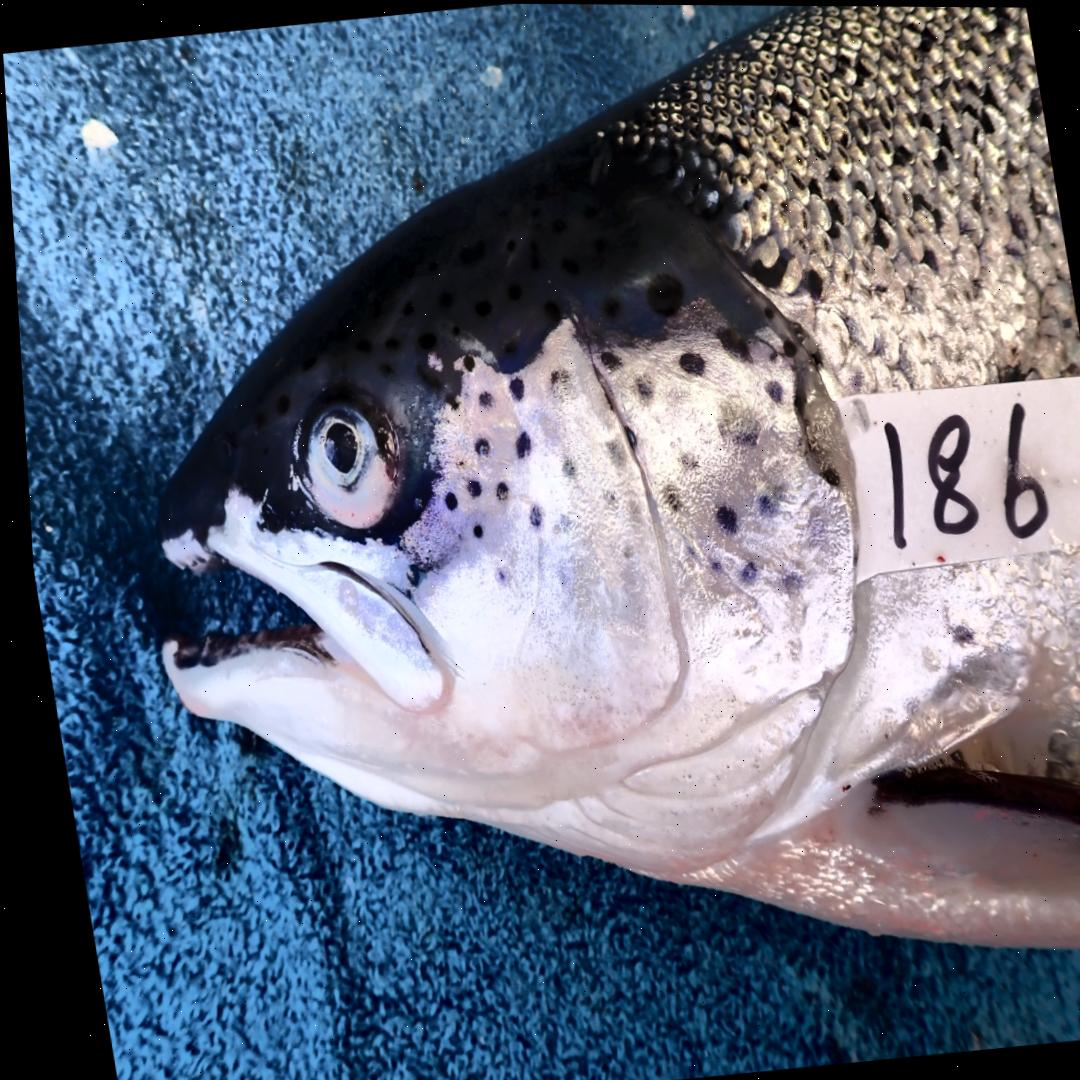spot: (713, 325, 746, 359), (729, 419, 755, 444), (675, 352, 701, 375), (709, 505, 731, 532), (544, 366, 566, 391), (759, 377, 780, 403), (752, 492, 775, 515), (600, 439, 618, 468), (802, 516, 819, 542), (596, 350, 617, 371), (510, 431, 526, 458), (658, 488, 676, 511), (632, 376, 647, 403), (504, 375, 520, 399), (815, 466, 834, 485), (733, 560, 749, 582), (672, 450, 691, 468), (620, 423, 632, 450), (778, 572, 794, 591), (469, 438, 485, 456), (523, 504, 536, 525), (473, 390, 488, 408), (556, 459, 571, 477), (489, 480, 503, 499), (438, 492, 452, 510), (462, 480, 476, 498), (597, 492, 610, 510), (779, 338, 792, 356), (487, 568, 500, 585), (460, 355, 472, 371), (768, 481, 780, 497), (676, 540, 687, 555), (554, 515, 562, 533), (467, 524, 477, 537), (618, 547, 627, 560), (705, 562, 714, 569)
